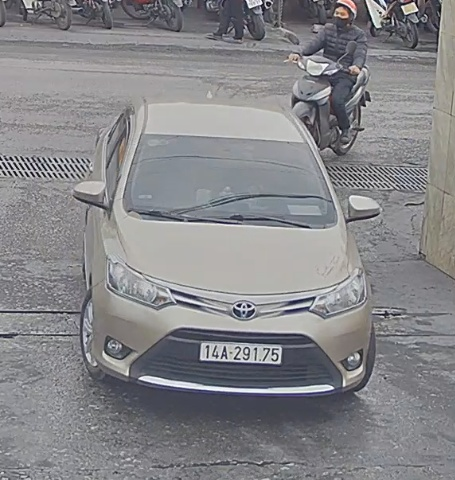vehicle plate: (195, 334, 289, 365)
